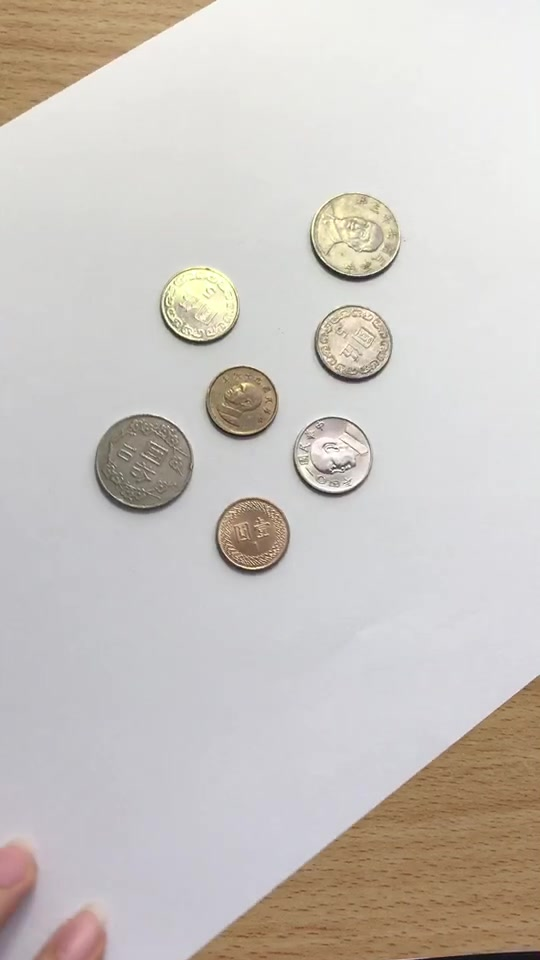1 dallar: (200, 359, 286, 447), (208, 490, 294, 578)
10 dallar: (85, 407, 207, 522), (286, 181, 408, 296)
5 dallar: (154, 255, 249, 352), (304, 297, 399, 394), (286, 405, 381, 502)
